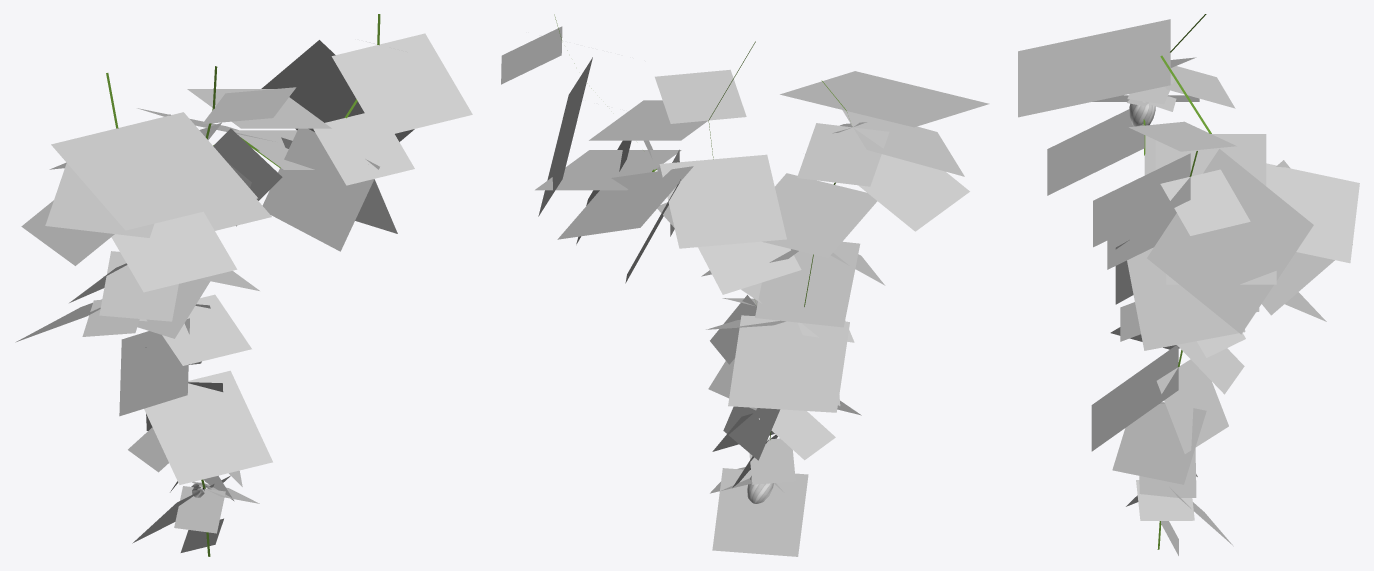
File: Glowing_Vine.fbx
3 views of the same model, side by side, from view 1: azimuth 30°, elevation 25°; view 2: azimuth 150°, elevation 25°; view 3: azimuth 270°, elevation 25° (orthographic). The views are drawn at different scales.
Visible parts, largest first — view 1: Glowing_Vine; view 2: Glowing_Vine; view 3: Glowing_Vine.
Part boxes in pixels (x1,y1,x2,y2): Glowing_Vine: (15,14,472,556); Glowing_Vine: (501,14,989,556); Glowing_Vine: (1018,14,1359,555).
Bounding box in the file's own units: 283 × 311 × 193.
